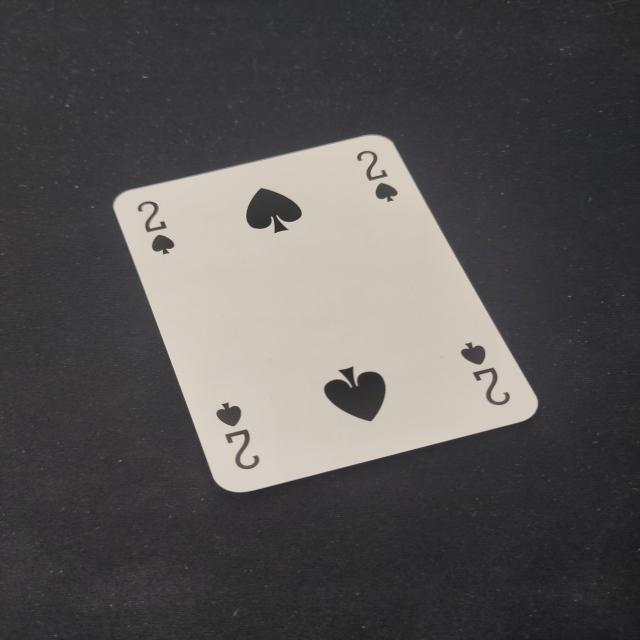2s: (453, 337, 520, 416), (210, 398, 269, 473), (130, 198, 184, 261), (351, 147, 406, 206)
